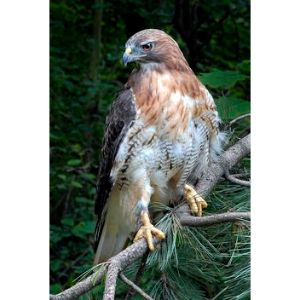hawk: (83, 26, 232, 272)
